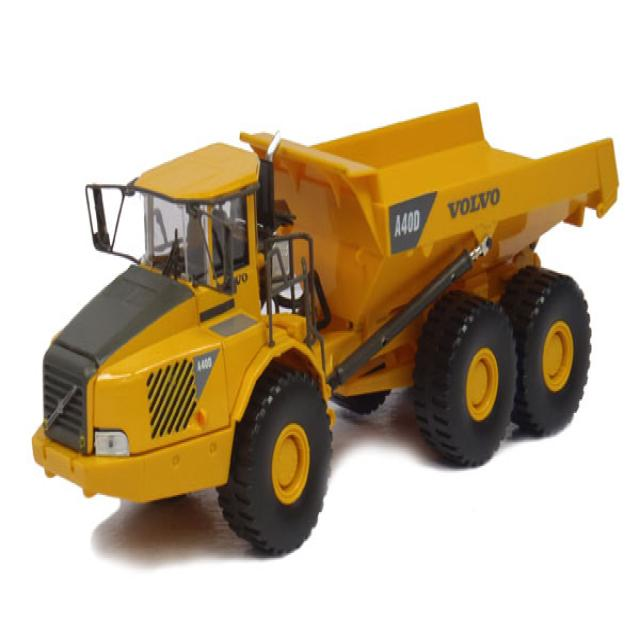dump_truck: (29, 99, 620, 548)
